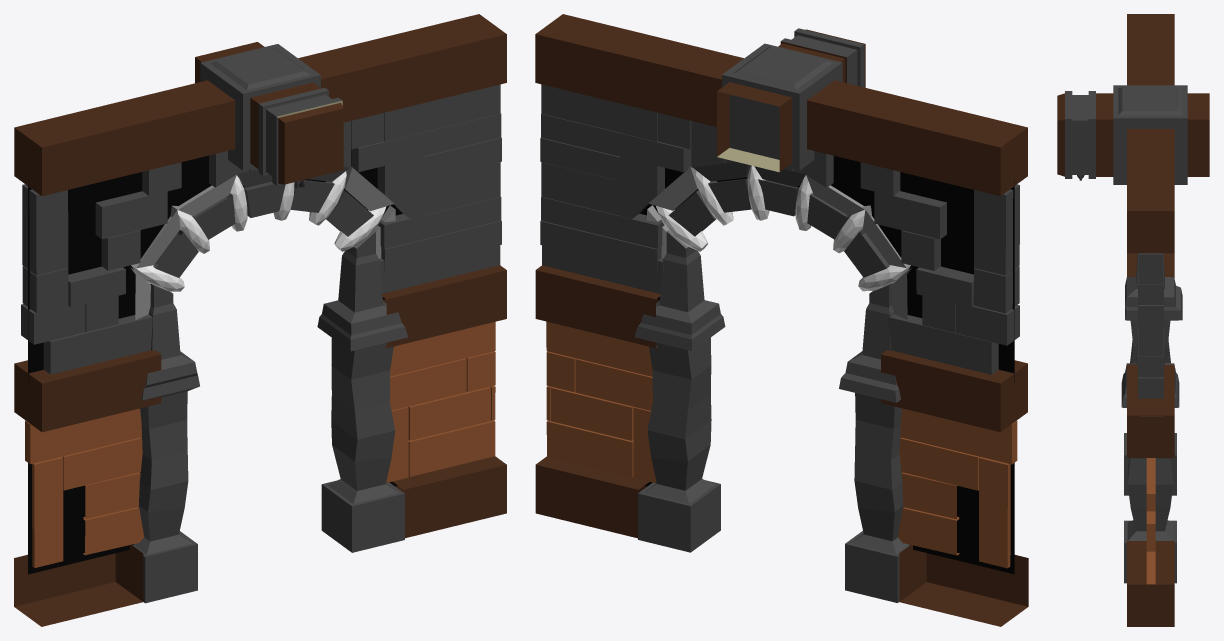
Rendered from porta_dangeon.fbx.
3 views of the same model, side by side, from view 1: azimuth 30°, elevation 25°; view 2: azimuth 150°, elevation 25°; view 3: azimuth 270°, elevation 25° (orthographic). The views are drawn at different scales.
Parts seen in each view (by area): view 1: Cube.009; view 2: Cube.009; view 3: Cube.009.
Part boxes in pixels (box(x1,y1,x2,y2)): Cube.009: box(14, 14, 506, 626); Cube.009: box(535, 14, 1028, 626); Cube.009: box(1057, 14, 1209, 626).
Bounding box in the file's own units: 603 × 611 × 197.
